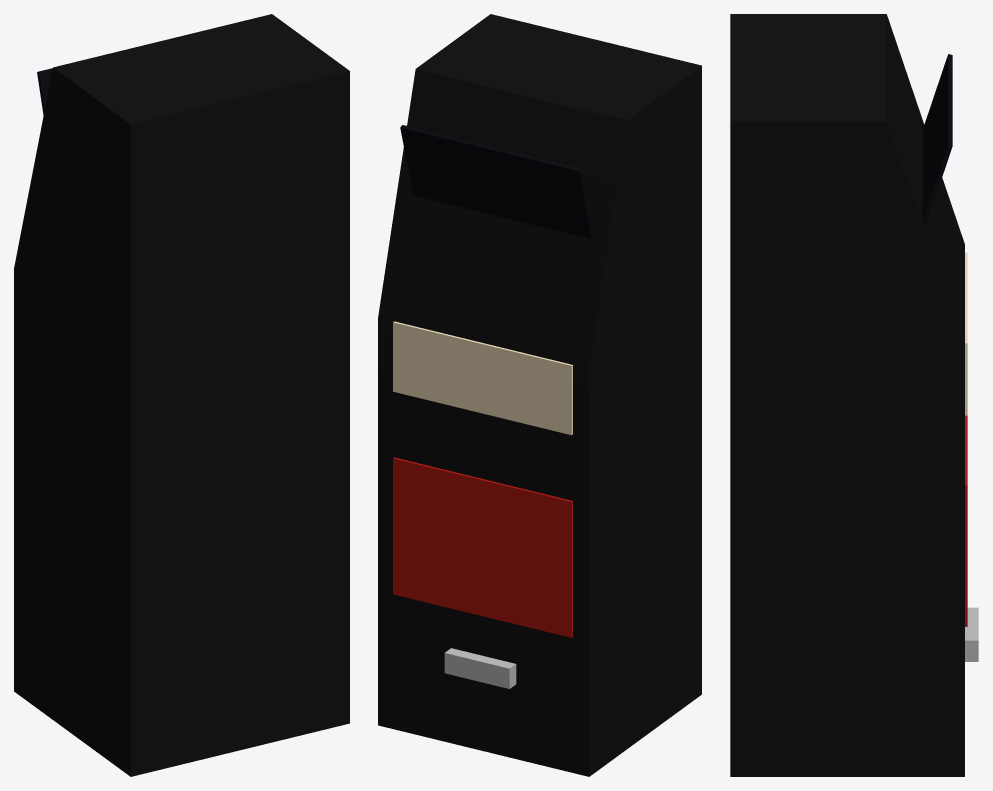
Rendered from hospitality.pub.fruit_machine.glb.
3 renders of one model, left to right at view 1: azimuth 30°, elevation 25°; view 2: azimuth 150°, elevation 25°; view 3: azimuth 270°, elevation 25°, orthographic. The views are drawn at different scales.
Parts seen in each view (by area): view 1: main__plastic_black; view 2: main__plastic_black, main__plastic_red, main__glow, main__screen, main__steel_stainless; view 3: main__plastic_black, main__screen, main__steel_stainless, main__plastic_red, main__glow.
Boxes of the visible parts, left/top/right/bottom form: main__plastic_black: left=14, top=14, right=349, bottom=776; main__plastic_black: left=378, top=14, right=701, bottom=776; main__plastic_red: left=393, top=457, right=572, bottom=637; main__glow: left=393, top=321, right=572, bottom=435; main__screen: left=400, top=125, right=593, bottom=239; main__steel_stainless: left=444, top=648, right=516, bottom=688; main__plastic_black: left=730, top=14, right=964, bottom=776; main__screen: left=923, top=54, right=952, bottom=226; main__steel_stainless: left=965, top=607, right=978, bottom=661; main__plastic_red: left=965, top=415, right=967, bottom=626; main__glow: left=965, top=252, right=967, bottom=415.
Size of the model in its own units: 0.65 by 1.85 by 0.635.
